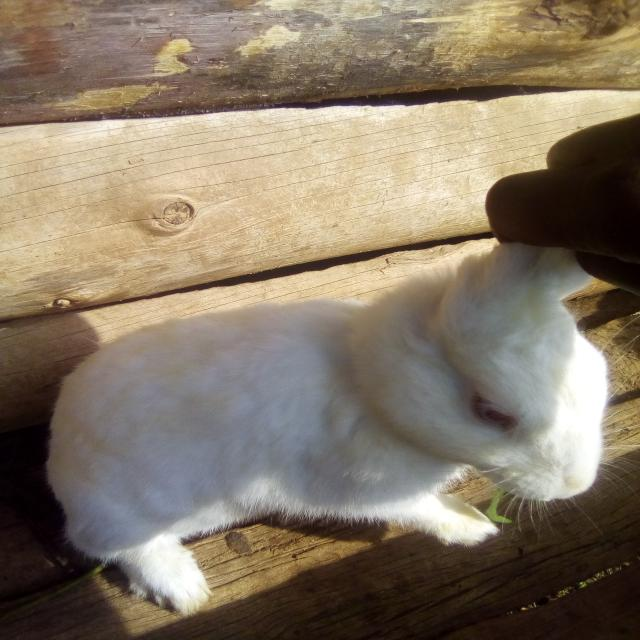rabbit: (24, 209, 638, 640)
